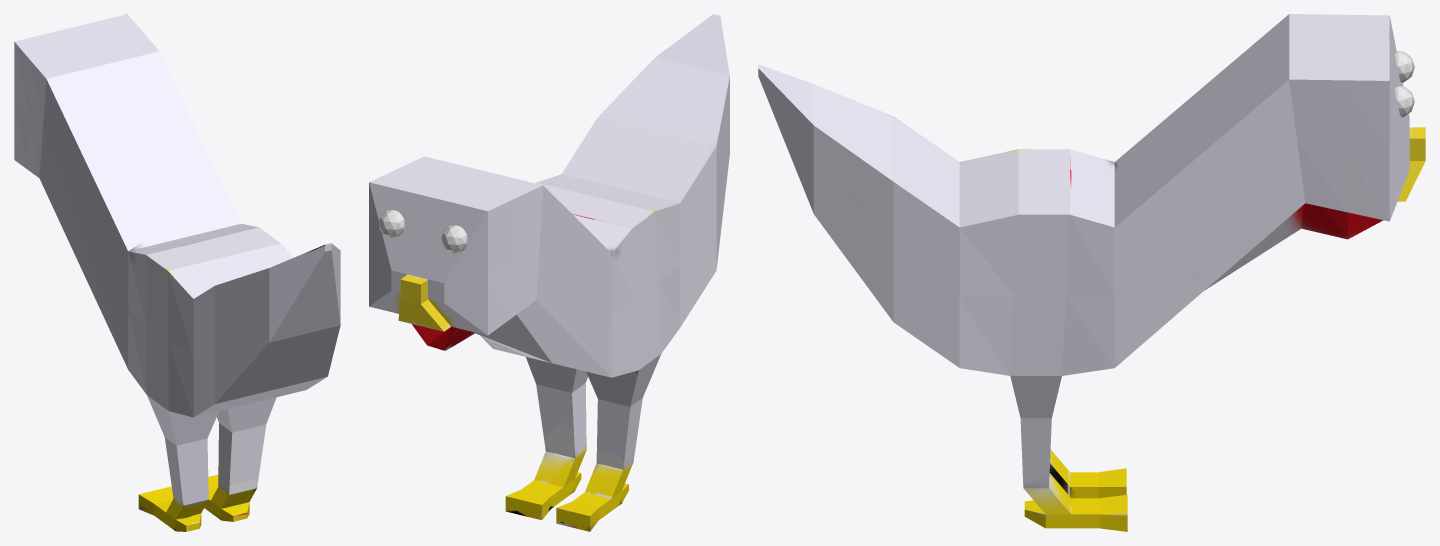
The model's file is chicken.fbx.
3 renders of one model, left to right at view 1: azimuth 30°, elevation 25°; view 2: azimuth 150°, elevation 25°; view 3: azimuth 270°, elevation 25°, orthographic. The views are drawn at different scales.
Parts seen in each view (by area): view 1: Cube.001; view 2: Cube.001, Icosphere.001, Icosphere; view 3: Cube.001.
Boxes of the visible parts, x1,y1,x2,y2 form: Cube.001: [14, 14, 340, 531]; Cube.001: [369, 14, 729, 531]; Icosphere.001: [441, 225, 467, 253]; Icosphere: [378, 210, 404, 237]; Cube.001: [758, 14, 1425, 531].
Bounding box in the file's own units: 219 × 658 × 860.
